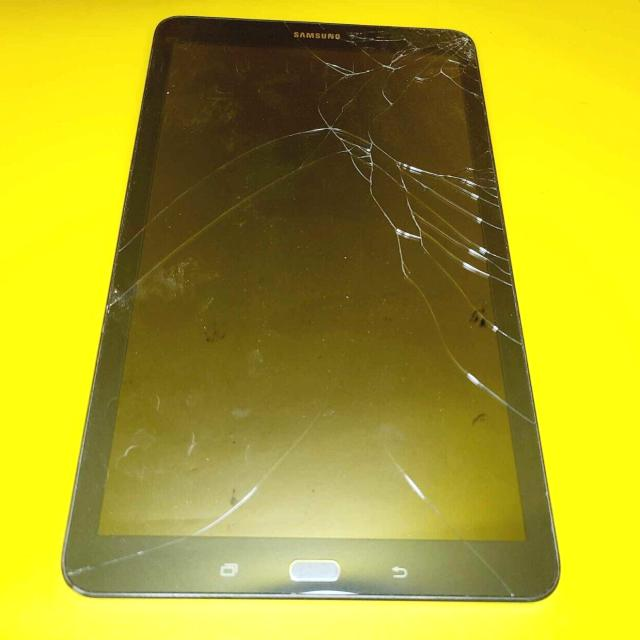Crack: (66, 122, 574, 586), (337, 199, 531, 423), (292, 14, 504, 200)
